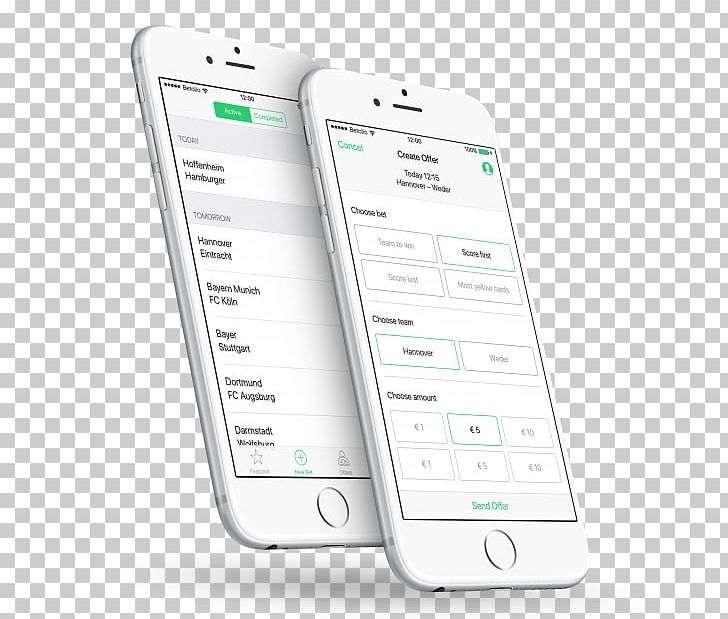phone: (298, 63, 595, 592)
